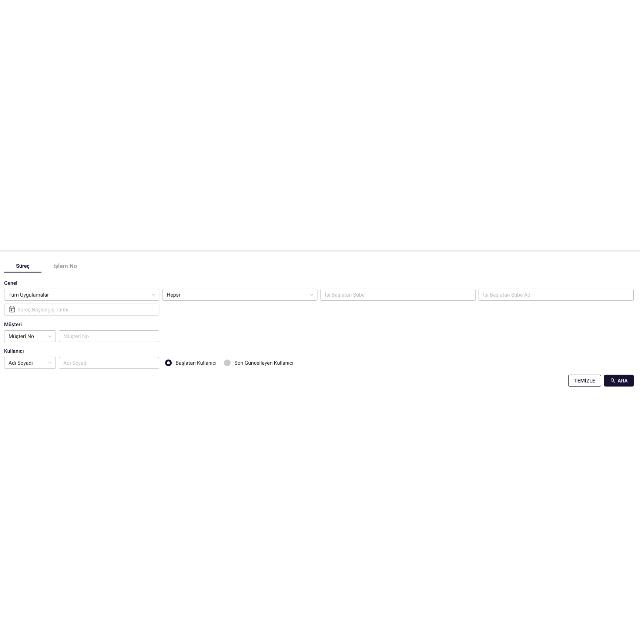QLabel: (233, 359, 294, 365), (175, 359, 218, 365), (52, 262, 78, 268), (2, 278, 18, 286), (14, 262, 32, 268), (4, 320, 22, 326), (574, 378, 596, 382), (3, 348, 24, 352), (618, 378, 628, 382)
VBtn: (568, 374, 602, 386), (604, 374, 634, 386)
VCombobox: (4, 328, 56, 342), (4, 356, 56, 368)
VIcon: (610, 378, 616, 382)
VInlineDatepicker: (4, 302, 160, 314)
VRadio: (164, 358, 172, 367), (223, 357, 231, 365)
VTabs: (0, 250, 640, 390)
VTextField: (3, 288, 159, 300), (162, 288, 318, 300), (320, 288, 476, 300), (478, 288, 634, 300), (59, 328, 160, 342), (59, 356, 160, 368)
